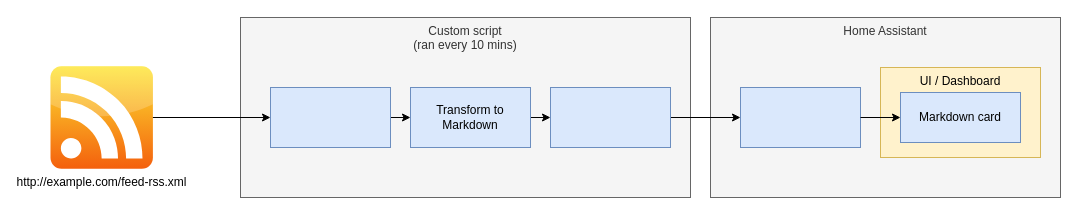
The diagram is 1079 pixels wide and 215 high, and some of its shapes have lost their labels. Each missing label, with the centre of its shape:
"Download feed data" belongs at (x=330, y=117).
"HTTP POST" belongs at (x=610, y=117).
"HTTP sensor" belongs at (x=800, y=117).
